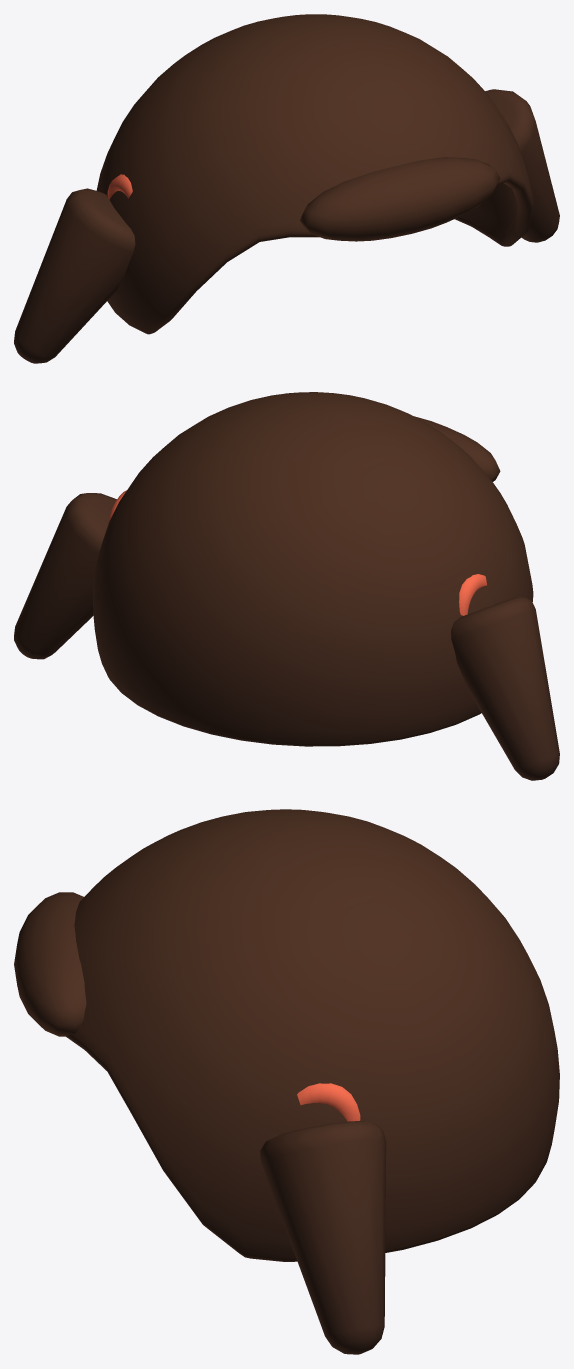
The model's file is hair_pigtails.glb.
The picture shows the model from 3 angles, top to bottom: view 1: azimuth 30°, elevation 25°; view 2: azimuth 150°, elevation 25°; view 3: azimuth 270°, elevation 25°; orthographic projection. The views are drawn at different scales.
Parts seen in each view (by area): view 1: Hair; view 2: Hair; view 3: Hair.
Boxes of the visible parts, x1,y1,x2,y2 form: Hair: [14, 14, 559, 363]; Hair: [14, 392, 559, 780]; Hair: [14, 809, 559, 1354].
Size of the model in its own units: 3.02 by 1.53 by 2.09.
